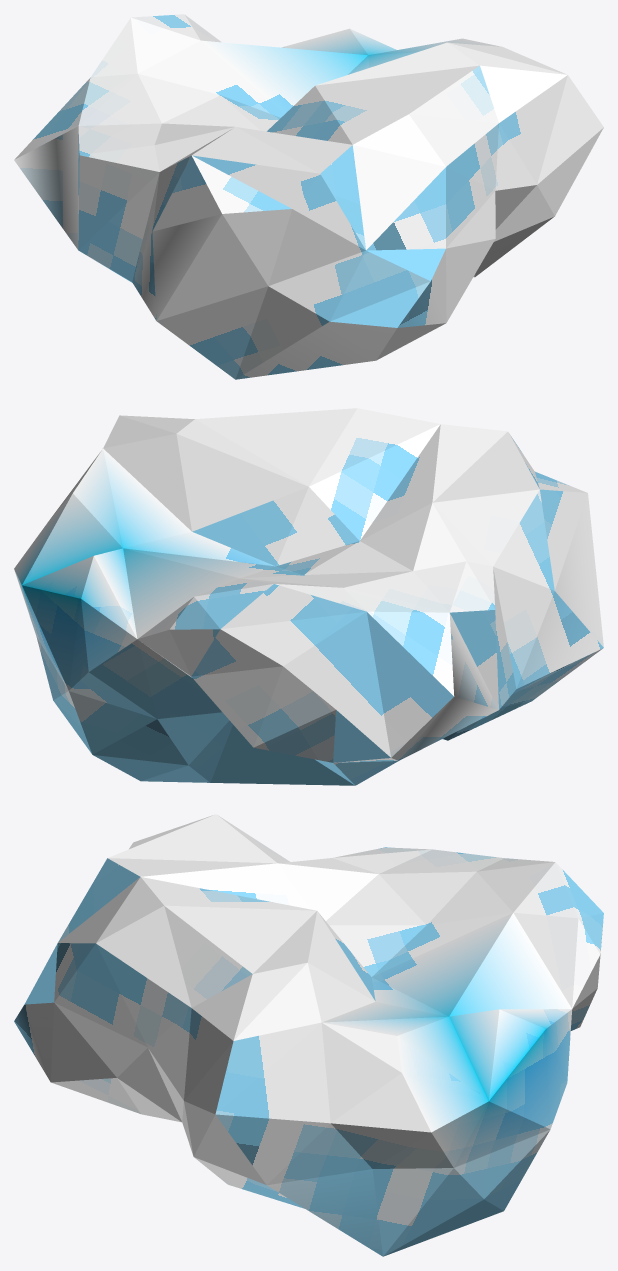
The model's file is cloud.glb.
3 views of the same model, one above another, from view 1: azimuth 30°, elevation 25°; view 2: azimuth 150°, elevation 25°; view 3: azimuth 270°, elevation 25° (orthographic). The views are drawn at different scales.
Visible parts, largest first — view 1: Icosphere; view 2: Icosphere; view 3: Icosphere.
Boxes of the visible parts, x1=… form: Icosphere: x1=14, y1=14, x2=603, y2=379; Icosphere: x1=14, y1=408, x2=603, y2=785; Icosphere: x1=14, y1=814, x2=603, y2=1256.
Size of the model in its own units: 1.91 by 1.04 by 1.93.
1 material, 1 textured.
